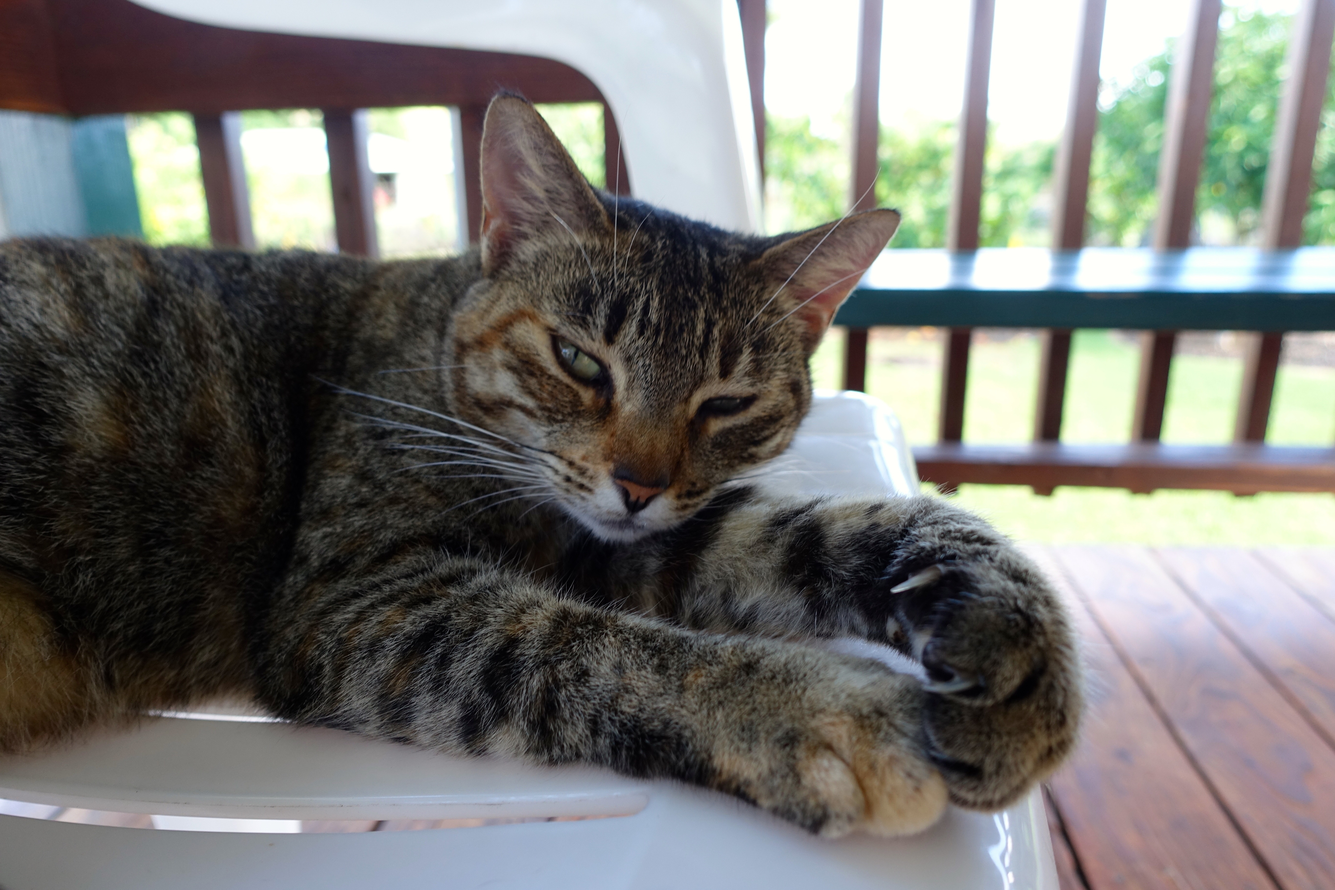cat: (0, 87, 1086, 842)
